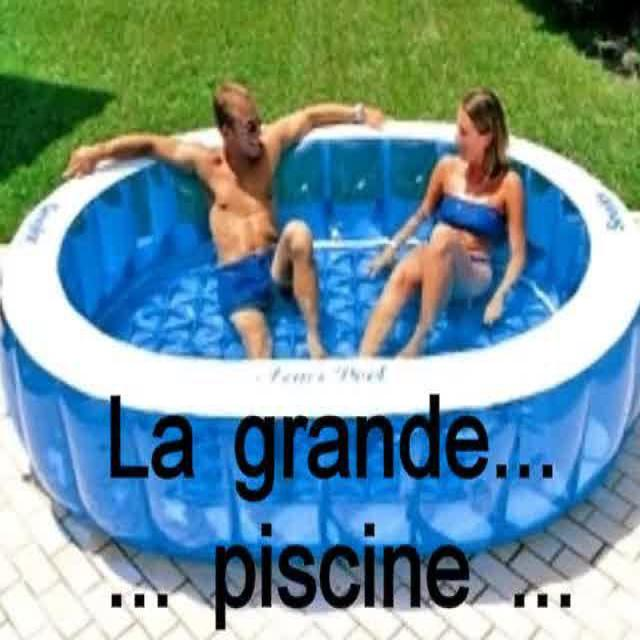other: (29, 296, 581, 416), (549, 125, 622, 362), (18, 163, 86, 359)
